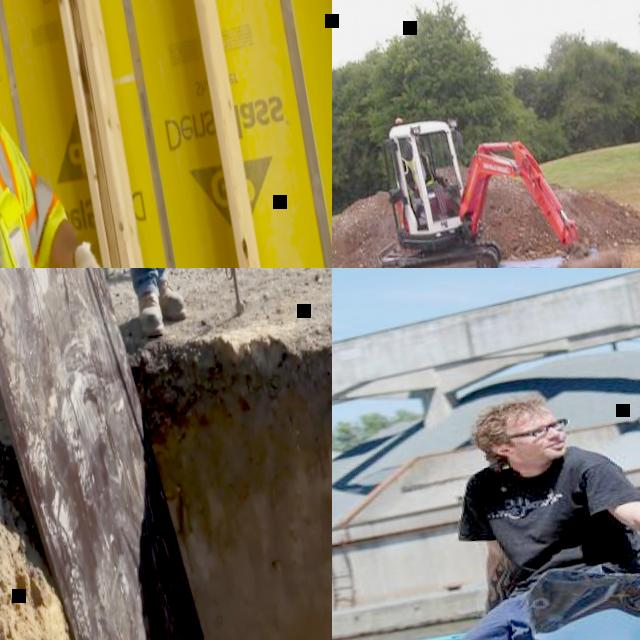Hardhat: (406, 132, 421, 144)
NO-Hardhat: (469, 393, 552, 435)
NO-Mask: (508, 432, 570, 465)
NO-Safety Vest: (464, 435, 634, 587)
Person: (332, 364, 640, 640), (0, 0, 138, 268), (94, 268, 191, 339), (399, 129, 454, 216)
Safety Vest: (0, 76, 106, 268), (403, 147, 433, 190)
vehicle: (369, 84, 635, 268)
